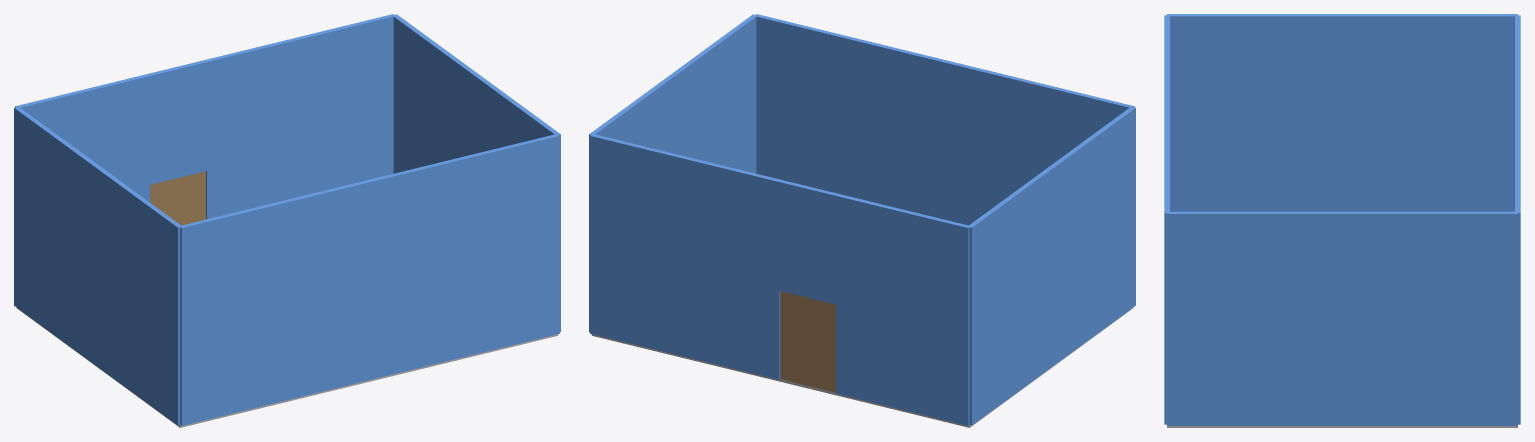
File: building.gltf
The picture shows the model from 3 angles, left to right: view 1: azimuth 30°, elevation 25°; view 2: azimuth 150°, elevation 25°; view 3: azimuth 270°, elevation 25°; orthographic projection. The views are drawn at different scales.
Parts seen in each view (by area): view 1: WALL|F0|storage|wS_seg0, WALL|F0|storage|wW_seg0, WALL|F0|storage|wN_seg2, WALL|F0|storage|wE_seg0, WALL|F0|storage|wN_seg0, WALL|F0|storage|wN_seg1, DOOR|F0|storage|0, SITE|GROUND|plane|0, FLOOR|F0|slab|0; view 2: WALL|F0|storage|wS_seg0, WALL|F0|storage|wN_seg2, WALL|F0|storage|wW_seg0, WALL|F0|storage|wN_seg0, WALL|F0|storage|wE_seg0, WALL|F0|storage|wN_seg1, DOOR|F0|storage|0, FLOOR|F0|slab|0, SITE|GROUND|plane|0; view 3: WALL|F0|storage|wE_seg0, WALL|F0|storage|wW_seg0, WALL|F0|storage|wS_seg0, WALL|F0|storage|wN_seg2, FLOOR|F0|slab|0, WALL|F0|storage|wN_seg0, SITE|GROUND|plane|0.
Boxes of the visible parts, x1=… form: WALL|F0|storage|wS_seg0: x1=179, y1=134, x2=559, y2=425; WALL|F0|storage|wW_seg0: x1=14, y1=107, x2=180, y2=425; WALL|F0|storage|wN_seg2: x1=204, y1=14, x2=395, y2=219; WALL|F0|storage|wE_seg0: x1=393, y1=14, x2=560, y2=332; WALL|F0|storage|wN_seg0: x1=15, y1=74, x2=150, y2=202; WALL|F0|storage|wN_seg1: x1=148, y1=60, x2=206, y2=184; DOOR|F0|storage|0: x1=150, y1=171, x2=205, y2=225; SITE|GROUND|plane|0: x1=17, y1=308, x2=558, y2=427; FLOOR|F0|slab|0: x1=49, y1=331, x2=558, y2=427; WALL|F0|storage|wS_seg0: x1=754, y1=14, x2=1134, y2=225; WALL|F0|storage|wN_seg2: x1=590, y1=134, x2=781, y2=379; WALL|F0|storage|wW_seg0: x1=968, y1=107, x2=1135, y2=425; WALL|F0|storage|wN_seg0: x1=836, y1=194, x2=970, y2=425; WALL|F0|storage|wE_seg0: x1=589, y1=14, x2=756, y2=332; WALL|F0|storage|wN_seg1: x1=779, y1=180, x2=838, y2=304; DOOR|F0|storage|0: x1=780, y1=291, x2=835, y2=392; FLOOR|F0|slab|0: x1=591, y1=308, x2=1132, y2=427; SITE|GROUND|plane|0: x1=591, y1=308, x2=1132, y2=427; WALL|F0|storage|wE_seg0: x1=1167, y1=211, x2=1517, y2=425; WALL|F0|storage|wW_seg0: x1=1167, y1=14, x2=1517, y2=211; WALL|F0|storage|wS_seg0: x1=1164, y1=15, x2=1169, y2=424; WALL|F0|storage|wN_seg2: x1=1515, y1=114, x2=1520, y2=424; FLOOR|F0|slab|0: x1=1167, y1=426, x2=1517, y2=427; WALL|F0|storage|wN_seg0: x1=1515, y1=15, x2=1520, y2=84; SITE|GROUND|plane|0: x1=1167, y1=427, x2=1517, y2=427.
Size of the model in its own units: 20.25 by 10.15 by 15.25.
